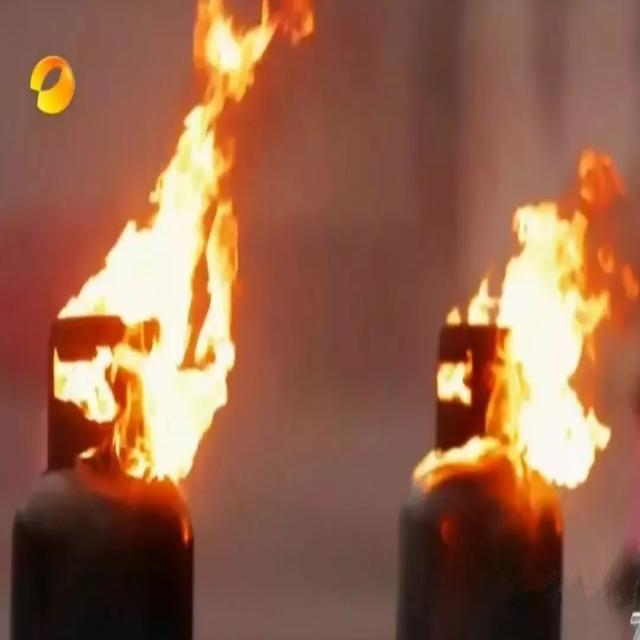Fire: (102, 7, 280, 262), (54, 263, 235, 488), (508, 196, 614, 487), (436, 282, 494, 404), (406, 432, 498, 479)
